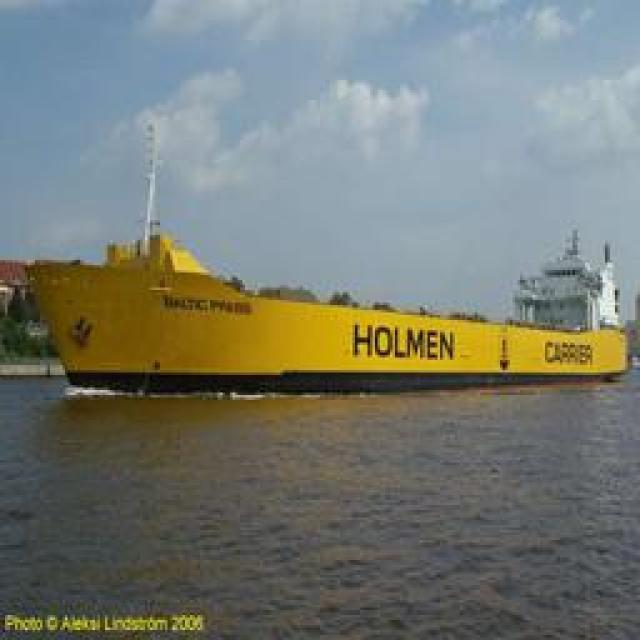CIV_Ship: (20, 155, 628, 390)
